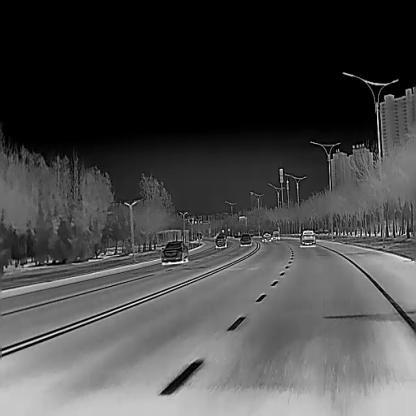car: (160, 241, 188, 264), (299, 229, 315, 245), (239, 234, 251, 246), (215, 235, 226, 248), (261, 231, 271, 241), (272, 231, 280, 239), (196, 232, 202, 240)
